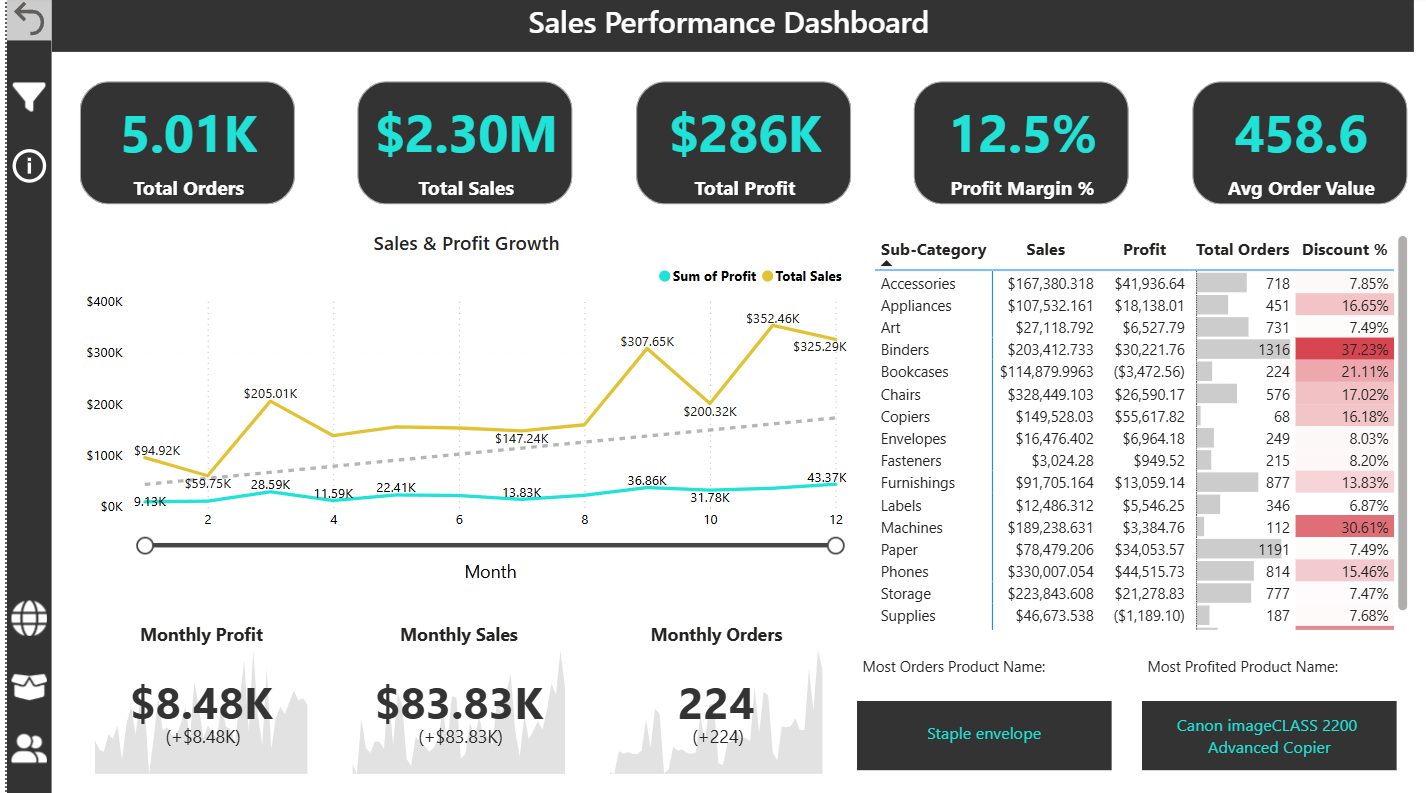

The page's visual inventory and layout, read from the dashboard file:
{"tool":"powerbi","page":{"name":"Exec Dashboard","canvas":[1280,720],"ordinal":0},"visuals":[{"type":"cardVisual","fields":{"Data":["Measure Table.Total Sales"]},"box":[311.8,72.1,204.2,121.1],"z":0,"group":"g1"},{"type":"lineChart","title":"Sales & Profit Growth","fields":{"Y":["Sum(Superstore Data.Profit)","Measure Table.Total Sales"],"Category":["Superstore Data.Order Date.Variation.Date Hierarchy.Year","Superstore Data.Month"]},"box":[66,210.3,695.8,316.7],"z":0},{"type":"kpi","title":"Monthly Profit","fields":{"Indicator":["Measure Table.Total Profit"],"Goal":["Measure Table.Previous Month Profit"],"TrendLine":["Superstore Data.Start of Month"]},"box":[74.6,563.7,201.8,143.1],"z":0,"group":"g2"},{"type":"group","id":"g1","title":"KPI Cards","box":[61.1,72.1,1206.9,121.1],"z":1000},{"type":"cardVisual","fields":{"Data":["Measure Table.Profit Margin %"]},"box":[813.1,72.1,204.2,121.1],"z":1000,"group":"g1"},{"type":"kpi","title":"Monthly Sales","fields":{"TrendLine":["Superstore Data.Start of Month"],"Indicator":["Measure Table.Total Sales"],"Goal":["Measure Table.Sales Prev Month"]},"box":[306.9,563.7,201.8,143.1],"z":1000,"group":"g2"},{"type":"shape","box":[0,0,40.4,720.2],"z":2000},{"type":"cardVisual","fields":{"Data":["Measure Table.Total Orders"]},"box":[61.1,72.1,204.2,121.1],"z":2000,"group":"g1"},{"type":"kpi","title":"Monthly Orders","fields":{"TrendLine":["Superstore Data.Start of Month"],"Indicator":["Measure Table.Total Orders"],"Goal":["Measure Table.Previous month Order"]},"box":[539.3,563.7,201.8,143.1],"z":2000,"group":"g2"},{"type":"cardVisual","fields":{"Data":["Measure Table.Total Profit"]},"box":[562.5,72.1,204.2,121.1],"z":3000,"group":"g1"},{"type":"pivotTable","fields":{"Rows":["Superstore Data.Sub-Category"],"Values":["Measure Table.Total Sales","Measure Table.Total Profit","Measure Table.Total Orders","Measure Table.Avg Discount %"]},"box":[777.7,210.3,490.4,365.6],"z":3000},{"type":"cardVisual","fields":{"Data":["Measure Table.Avg Order Value"]},"box":[1063.8,72.1,204.2,121.1],"z":4000,"group":"g1"},{"type":"group","id":"g2","title":"Monthly KPI","box":[74.6,563.7,666.4,143.1],"z":4000},{"type":"card","fields":{"Values":["Min(Superstore Data.Product Name)"]},"box":[766.7,635.9,229.9,62.4],"z":5000},{"type":"card","fields":{"Values":["Min(Superstore Data.Product Name)"]},"box":[1023.5,635.9,229.9,62.4],"z":6000},{"type":"textbox","box":[766.7,590.6,182.2,31.8],"z":7000},{"type":"textbox","box":[1023.5,590.6,203,31.8],"z":8000},{"type":"actionButton","box":[0,0,40.4,40.4],"z":9000},{"type":"actionButton","box":[0,0,40.4,40.4],"z":10000},{"type":"actionButton","title":"Filter","box":[1.2,72.1,39.1,37.9],"z":11000},{"type":"textbox","box":[40.4,0,1227.7,50.1],"z":13000},{"type":"actionButton","box":[0,133.3,40.4,40.4],"z":14000},{"type":"actionButton","box":[0,540.5,40.4,40.4],"z":14001},{"type":"actionButton","box":[0,602.9,40.4,40.4],"z":14002},{"type":"actionButton","box":[0,657.9,40.4,40.4],"z":14003}]}

Visuals, with their boxes on the page's 1280x720 design canvas (x1, y1, x2, y2). These are canvas units, not pixel positions in the 1426x793 screenshot, which may show the page scaled, cropped or inside an application window:
cardVisual - Measure Table.Total Sales: {"left": 312, "top": 72, "right": 516, "bottom": 193}
"Sales & Profit Growth" lineChart: {"left": 66, "top": 210, "right": 762, "bottom": 527}
"Monthly Profit" kpi: {"left": 75, "top": 564, "right": 276, "bottom": 707}
"KPI Cards" group: {"left": 61, "top": 72, "right": 1268, "bottom": 193}
cardVisual - Measure Table.Profit Margin %: {"left": 813, "top": 72, "right": 1017, "bottom": 193}
"Monthly Sales" kpi: {"left": 307, "top": 564, "right": 509, "bottom": 707}
shape: {"left": 0, "top": 0, "right": 40, "bottom": 720}
cardVisual - Measure Table.Total Orders: {"left": 61, "top": 72, "right": 265, "bottom": 193}
"Monthly Orders" kpi: {"left": 539, "top": 564, "right": 741, "bottom": 707}
cardVisual - Measure Table.Total Profit: {"left": 562, "top": 72, "right": 767, "bottom": 193}
pivotTable - Superstore Data.Sub-Category x Measure Table.Total Sales: {"left": 778, "top": 210, "right": 1268, "bottom": 576}
cardVisual - Measure Table.Avg Order Value: {"left": 1064, "top": 72, "right": 1268, "bottom": 193}
"Monthly KPI" group: {"left": 75, "top": 564, "right": 741, "bottom": 707}
card - Min(Superstore Data.Product Name): {"left": 767, "top": 636, "right": 997, "bottom": 698}
card - Min(Superstore Data.Product Name): {"left": 1024, "top": 636, "right": 1253, "bottom": 698}
textbox: {"left": 767, "top": 591, "right": 949, "bottom": 622}
textbox: {"left": 1024, "top": 591, "right": 1226, "bottom": 622}
actionButton: {"left": 0, "top": 0, "right": 40, "bottom": 40}
actionButton: {"left": 0, "top": 0, "right": 40, "bottom": 40}
"Filter" actionButton: {"left": 1, "top": 72, "right": 40, "bottom": 110}
textbox: {"left": 40, "top": 0, "right": 1268, "bottom": 50}
actionButton: {"left": 0, "top": 133, "right": 40, "bottom": 174}
actionButton: {"left": 0, "top": 540, "right": 40, "bottom": 581}
actionButton: {"left": 0, "top": 603, "right": 40, "bottom": 643}
actionButton: {"left": 0, "top": 658, "right": 40, "bottom": 698}
